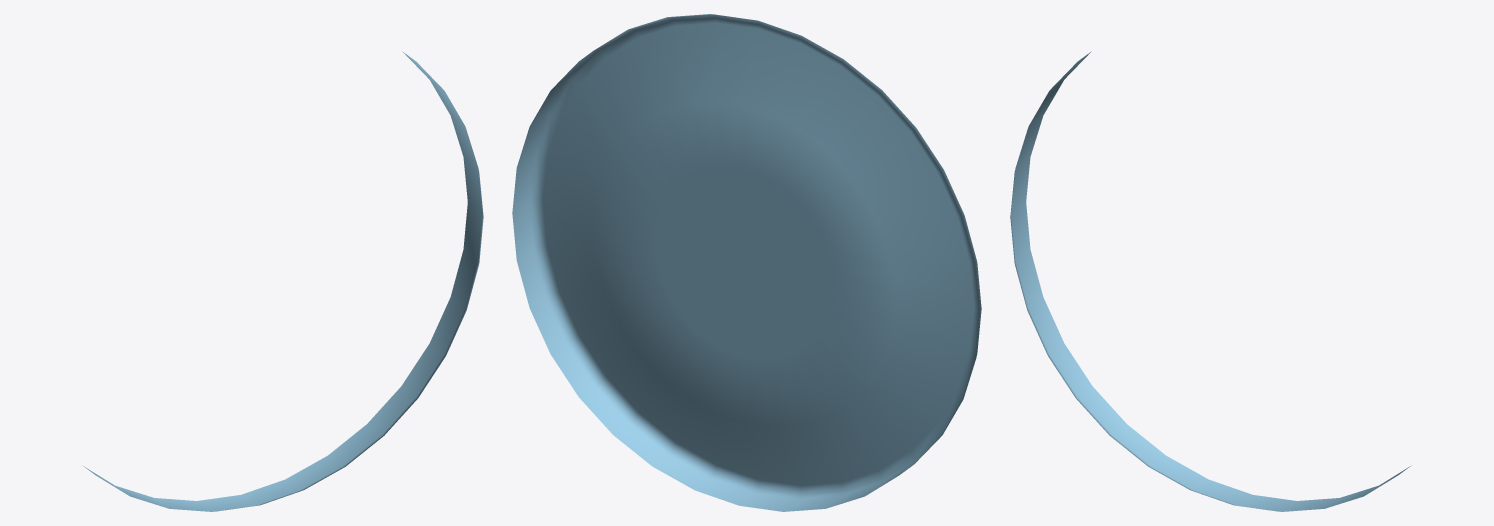
Rendered from concaveLens.glb.
The picture shows the model from 3 angles, left to right: view 1: azimuth 30°, elevation 25°; view 2: azimuth 150°, elevation 25°; view 3: azimuth 330°, elevation 25°; orthographic projection.
Visible parts, largest first — view 1: Circle; view 2: Circle; view 3: Circle.
Boxes of the visible parts, x1,y1,x2,y2 form: Circle: (83, 51, 483, 511); Circle: (512, 14, 981, 511); Circle: (1010, 51, 1410, 511).
Size of the model in its own units: 2 by 2 by 0.1484.
